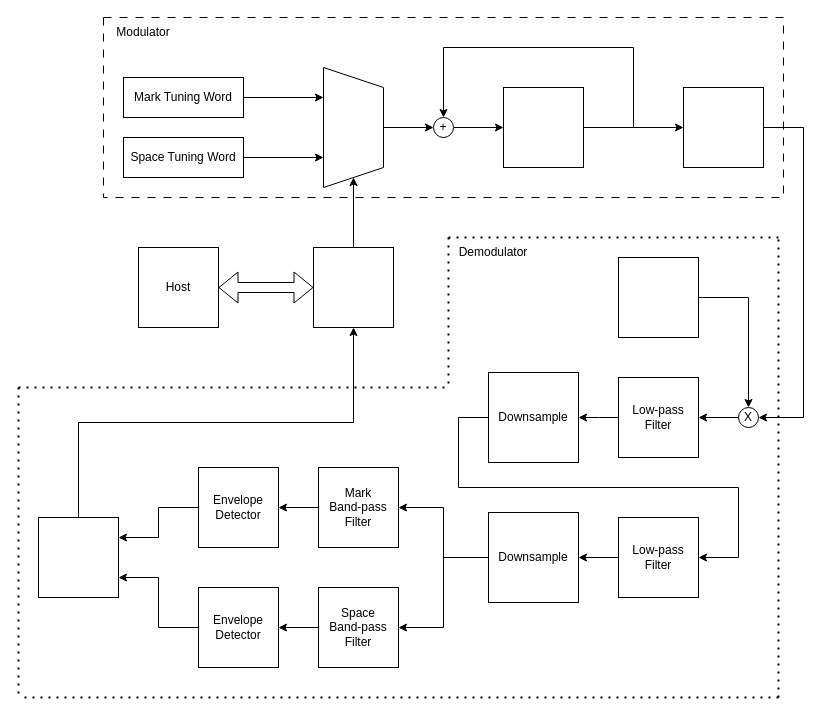
This 829x717 diagram has some shape labels left out. The centre of each missing label's shape, as x and y in pixels:
Decider: the point at 78,557
Local Oscillator: the point at 658,297
Phase Accumulator: the point at 543,127
Sine ROM: the point at 723,127
UART: the point at 353,287
